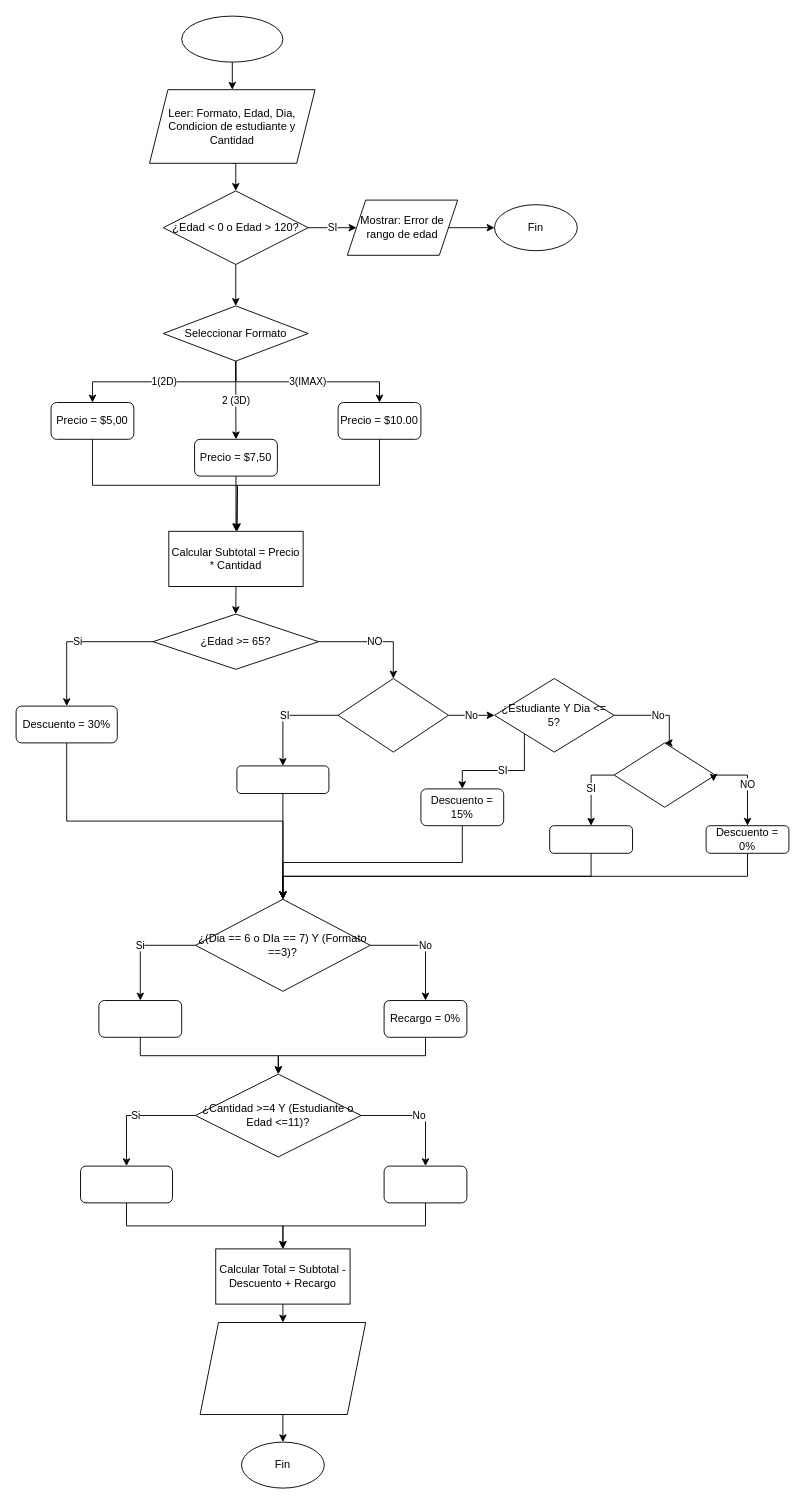
Some shapes in this 805 by 1504 pixel diagram are drawn without their labels. The centre of each missing label's shape, as x and y in pixels:
Cortesia = Combo Pequeño: the point at 126,1184
Cortesia = Ninguna: the point at 425,1184
Descuento = 10%: the point at 590,839
Descuento = 20%: the point at 282,779
inicio: the point at 232,38
Mostrar Resumen: Formato, Dia , Subtotal, Descuento, Recargo, Total y Cortesia: the point at 282,1368
Recargo = 10% sobre subtotal: the point at 140,1018
¿Dia == 3?: the point at 664,774
¿Edad <= 11?: the point at 392,715
